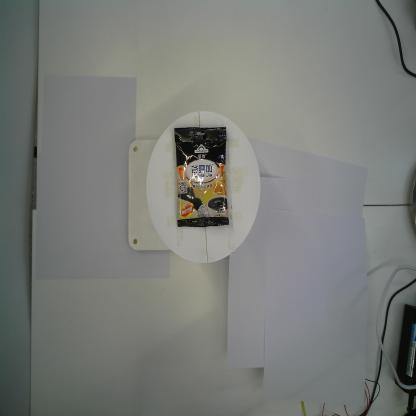Instant Drink: (174, 126, 230, 228)
